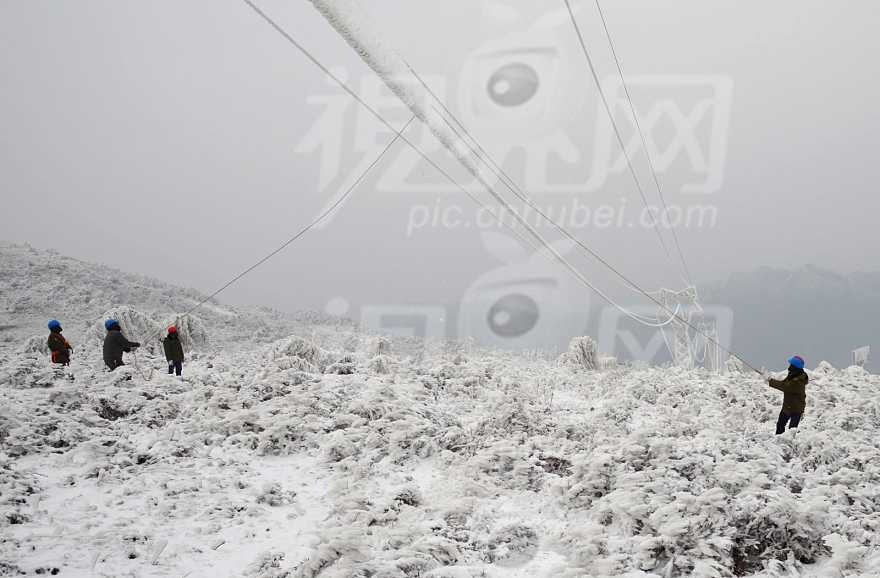blue: (785, 354, 806, 373), (104, 317, 120, 332), (46, 319, 62, 332)
red: (167, 323, 178, 336)
